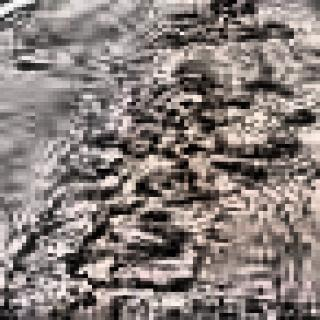crack: (83, 49, 284, 292)
